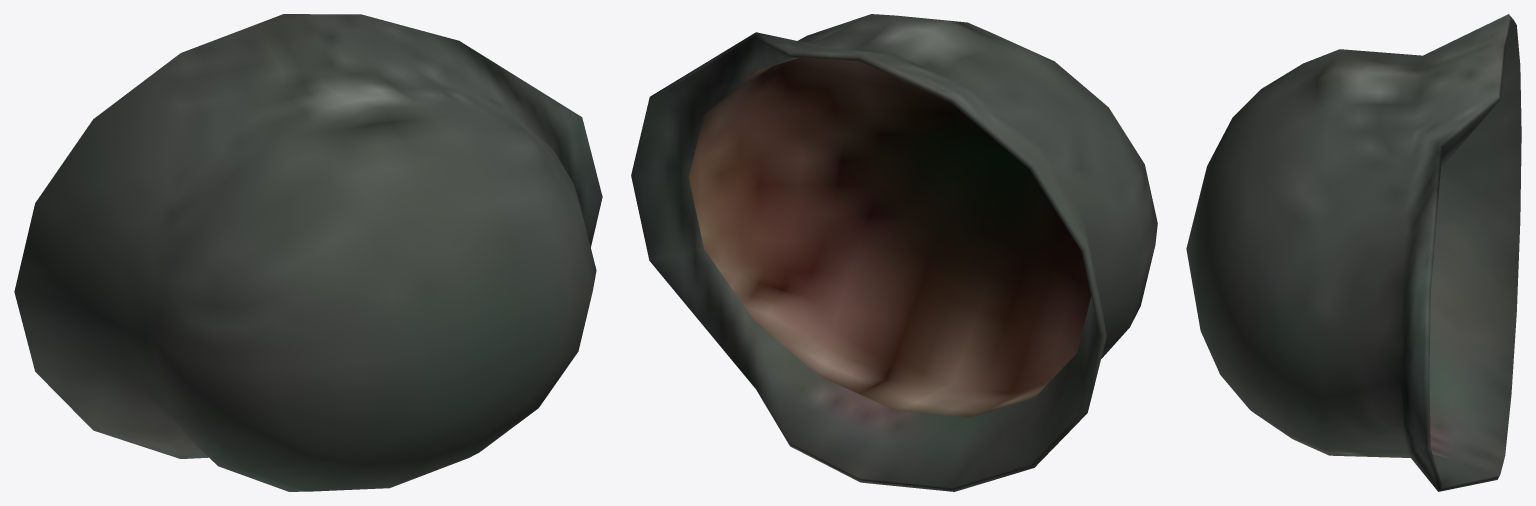
The model's file is prop_helmet_german_normandy.glb.
3 renders of one model, left to right at view 1: azimuth 30°, elevation 25°; view 2: azimuth 150°, elevation 25°; view 3: azimuth 270°, elevation 25°, orthographic. The views are drawn at different scales.
Size of the model in its own units: 13.74 by 10.73 by 7.82.
Materials: 1 (1 with a texture image).
